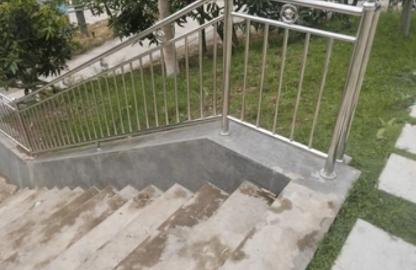stair: (0, 131, 329, 270)
